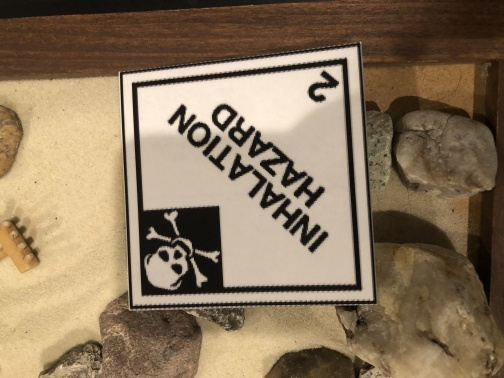InhalationHazard: (119, 42, 380, 311)
